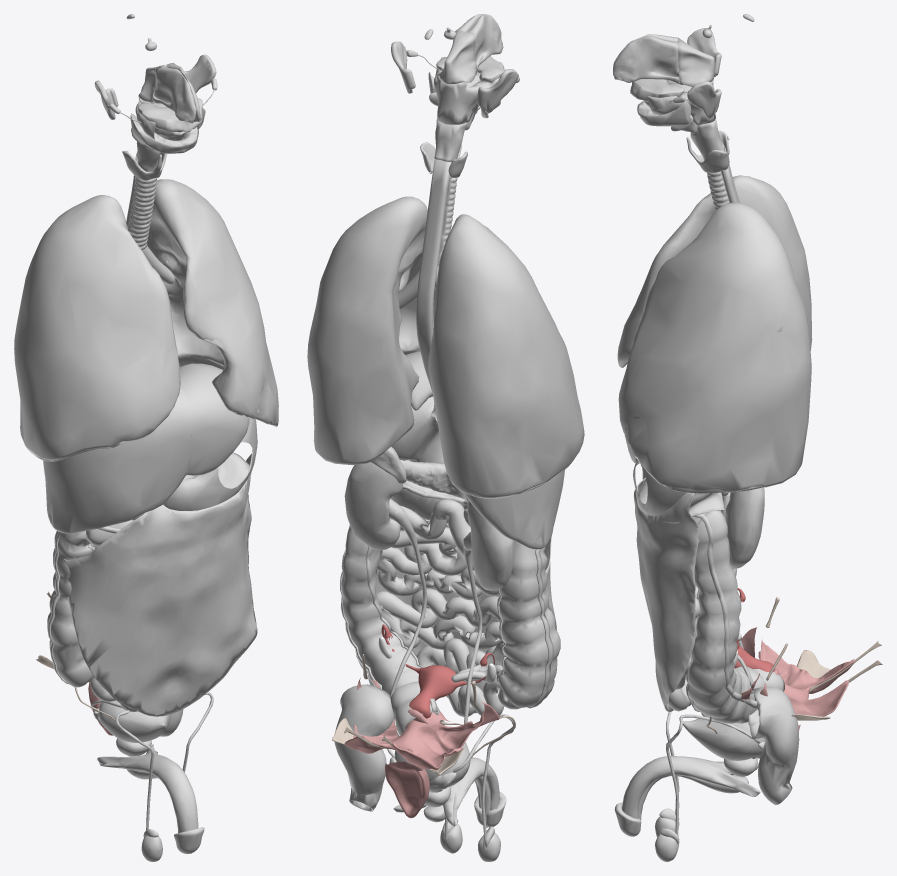
File: VisceralSystem100.glb
The picture shows the model from 3 angles, left to right: view 1: azimuth 30°, elevation 25°; view 2: azimuth 150°, elevation 25°; view 3: azimuth 270°, elevation 25°; orthographic projection. The views are drawn at different scales.
Parts seen in each view (by area): view 1: Pleura, Greater omentum, Liver, Ascending colon, Corpus cavernosum of penis, Stomach, Gingiva, Mucosa of nasal cavity, Urinary bladder, Trachea, Mesocolon, Parotid gland.l (+4 smaller); view 2: Pleura, Jejunum, Ascending colon, Descending colon, Liver, Sigmoid colon, VH_F_broad_ligament, Kidney.l, Oesophagus, Kidney.r, Stomach, Oropharynx (+23 smaller); view 3: Pleura, Greater omentum, Descending colon, Sigmoid colon, VH_F_broad_ligament, Corpus cavernosum of penis, Mucosa of nasal cavity, Kidney.l, Urinary bladder, Gingiva, Nasopharynx, Mesocolic taenia (+11 smaller).
Part boxes in pixels (x1=…): Pleura: x1=14, y1=179, x2=278, y2=460; Greater omentum: x1=63, y1=449, x2=257, y2=716; Liver: x1=43, y1=363, x2=249, y2=533; Ascending colon: x1=47, y1=531, x2=93, y2=687; Corpus cavernosum of penis: x1=97, y1=744, x2=198, y2=833; Stomach: x1=163, y1=418, x2=257, y2=510; Gingiva: x1=130, y1=98, x2=203, y2=153; Mucosa of nasal cavity: x1=153, y1=63, x2=201, y2=123; Urinary bladder: x1=98, y1=700, x2=170, y2=742; Trachea: x1=128, y1=177, x2=156, y2=249; Mesocolon: x1=205, y1=452, x2=252, y2=521; Parotid gland.l: x1=183, y1=54, x2=216, y2=92; Pleura: x1=307, y1=196, x2=584, y2=498; Jejunum: x1=376, y1=505, x2=521, y2=716; Ascending colon: x1=498, y1=541, x2=560, y2=707; Descending colon: x1=341, y1=526, x2=445, y2=735; Liver: x1=405, y1=351, x2=564, y2=549; Sigmoid colon: x1=334, y1=684, x2=393, y2=811; VH_F_broad_ligament: x1=344, y1=674, x2=499, y2=770; Kidney.l: x1=344, y1=462, x2=402, y2=550; Oesophagus: x1=416, y1=159, x2=451, y2=419; Kidney.r: x1=467, y1=501, x2=514, y2=590; Stomach: x1=391, y1=396, x2=444, y2=463; Oropharynx: x1=434, y1=69, x2=499, y2=124; Pleura: x1=617, y1=175, x2=812, y2=491; Greater omentum: x1=634, y1=468, x2=700, y2=711; Descending colon: x1=688, y1=508, x2=784, y2=723; Sigmoid colon: x1=748, y1=686, x2=799, y2=805; VH_F_broad_ligament: x1=740, y1=627, x2=855, y2=716; Corpus cavernosum of penis: x1=622, y1=756, x2=760, y2=818; Mucosa of nasal cavity: x1=613, y1=34, x2=679, y2=83; Kidney.l: x1=725, y1=487, x2=764, y2=568; Urinary bladder: x1=683, y1=716, x2=765, y2=760; Gingiva: x1=630, y1=79, x2=691, y2=126; Nasopharynx: x1=678, y1=38, x2=714, y2=86; Mesocolic taenia: x1=692, y1=514, x2=757, y2=708.
Size of the model in its own units: 0.2632 by 0.8931 by 0.2607.
